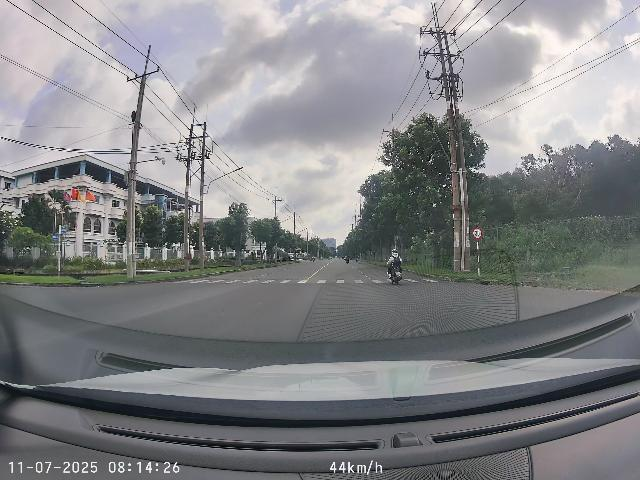127-toc-do-toi-da-30: (472, 227, 483, 240)
